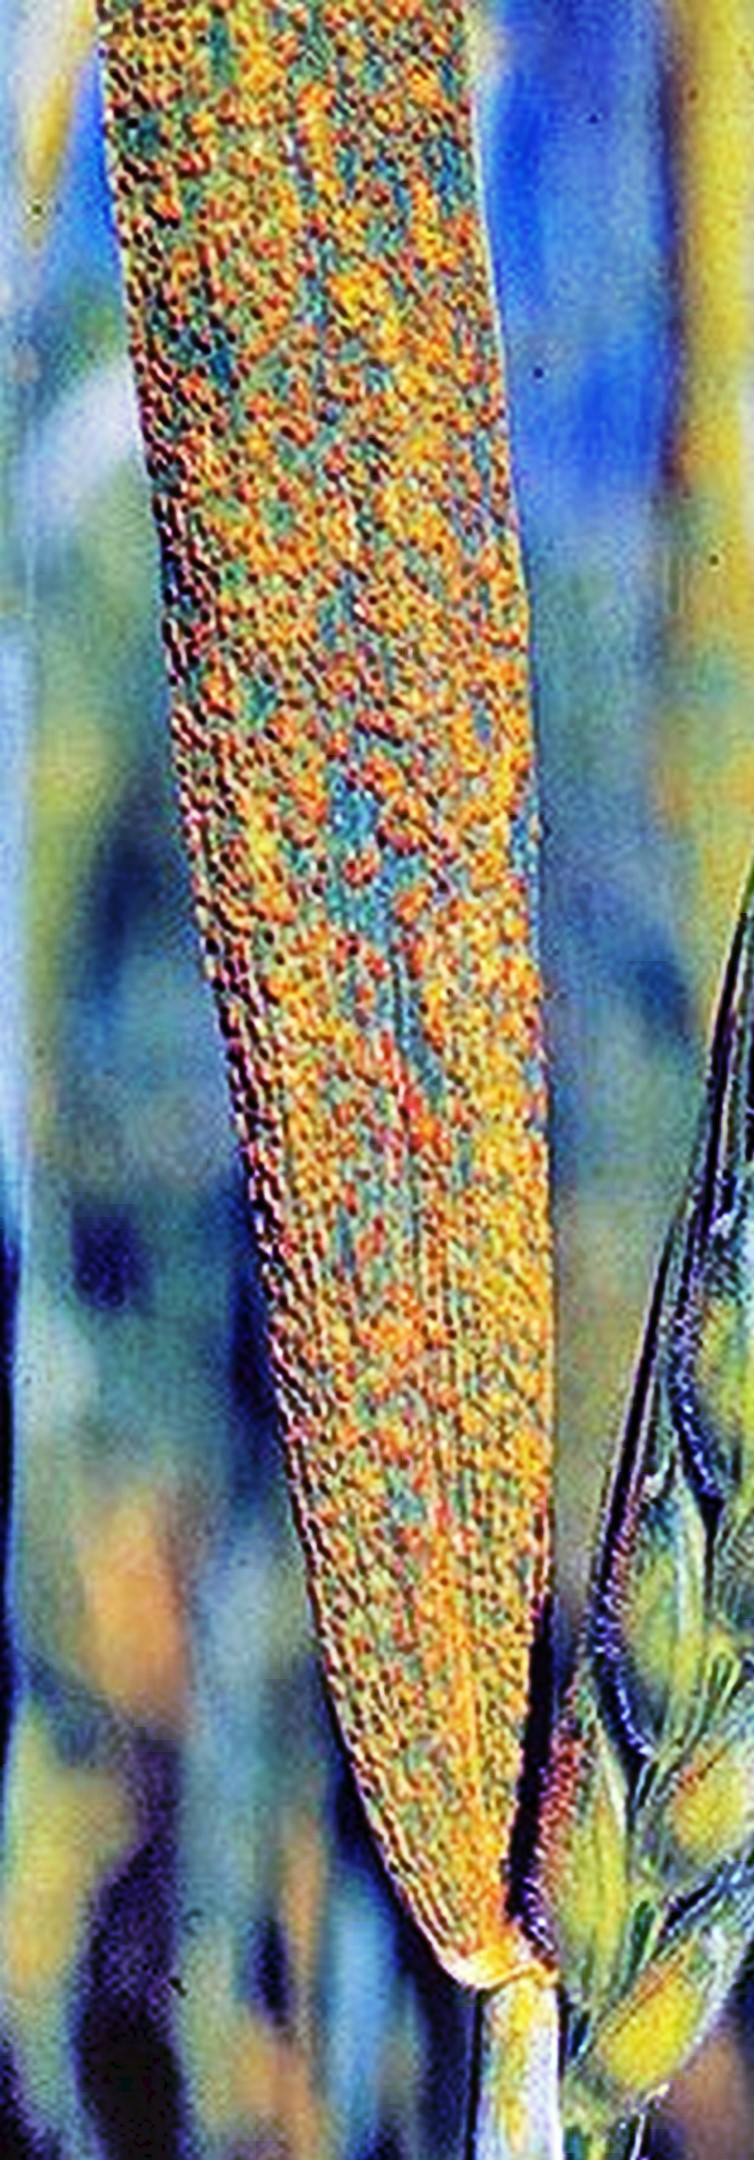Leaf Rust: (106, 205, 578, 1773)
